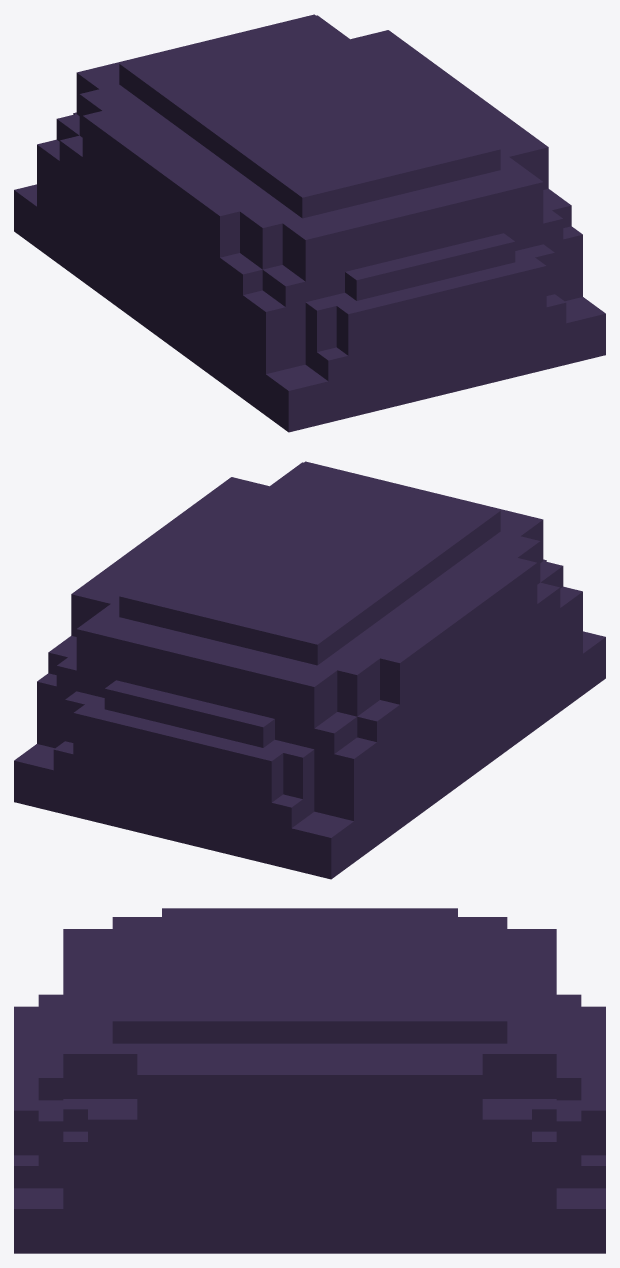
File: kiritan-9-Waist.obj
3 renders of one model, top to bottom at view 1: azimuth 30°, elevation 25°; view 2: azimuth 150°, elevation 25°; view 3: azimuth 270°, elevation 25°, orthographic. The views are drawn at different scales.
Parts seen in each view (by area): view 1: Waist; view 2: Waist; view 3: Waist.
Boxes of the visible parts, left/top/right/bottom form: Waist: left=14, top=14, right=605, bottom=432; Waist: left=14, top=461, right=605, bottom=879; Waist: left=14, top=908, right=605, bottom=1253.
Size of the model in its own units: 1.6 by 0.9 by 2.4.
Materials: 1 (1 with a texture image).
